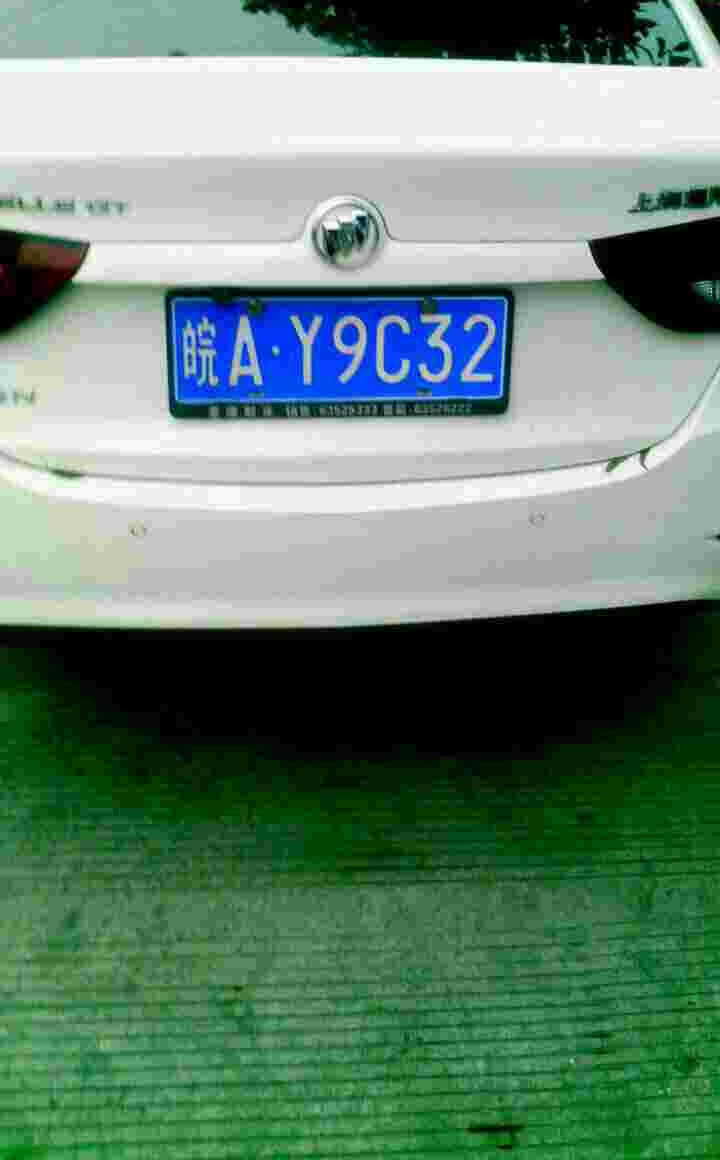license_plate: (166, 293, 503, 421)
